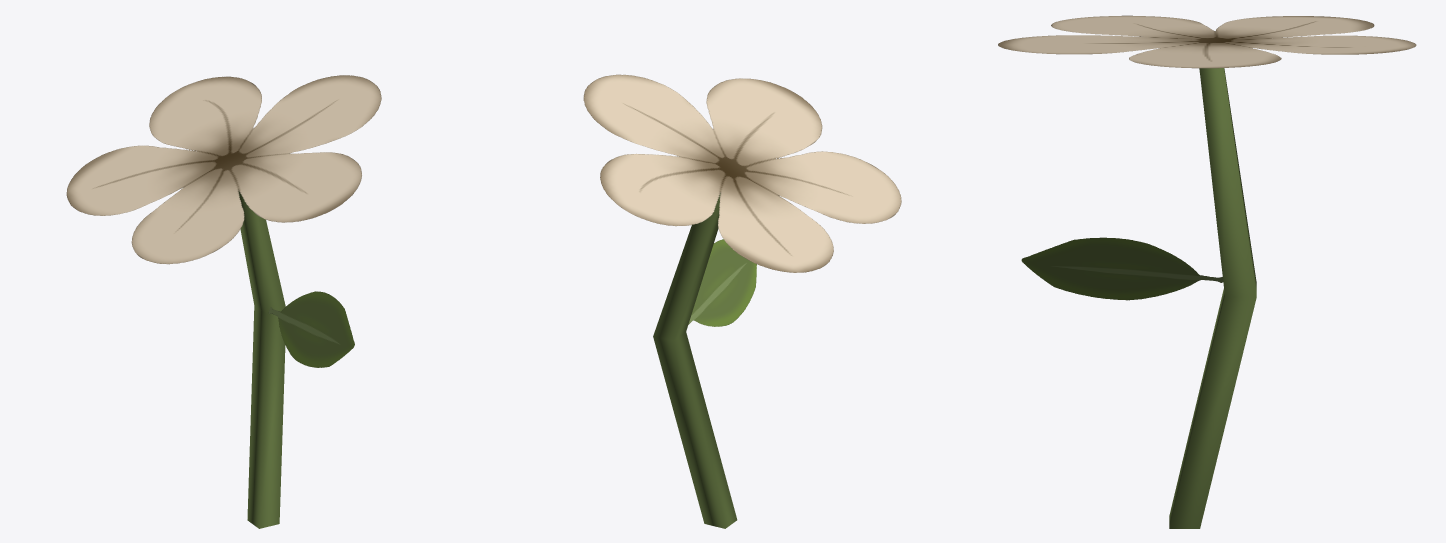
File: Flor_Flor.fbx
3 renders of one model, left to right at view 1: azimuth 30°, elevation 25°; view 2: azimuth 150°, elevation 25°; view 3: azimuth 270°, elevation 25°, orthographic. The views are drawn at different scales.
Parts seen in each view (by area): view 1: Flor_Flor; view 2: Flor_Flor; view 3: Flor_Flor.
Boxes of the visible parts, x1,y1,x2,y2 form: Flor_Flor: [66, 75, 381, 528]; Flor_Flor: [583, 74, 901, 528]; Flor_Flor: [998, 15, 1416, 528].
Bounding box in the file's own units: 27.48 × 38.11 × 28.85.
